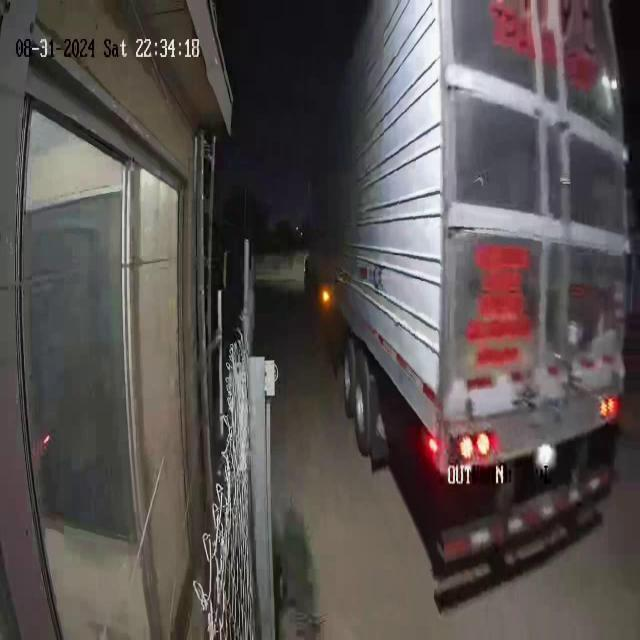CONTAINER: (305, 0, 632, 469)
